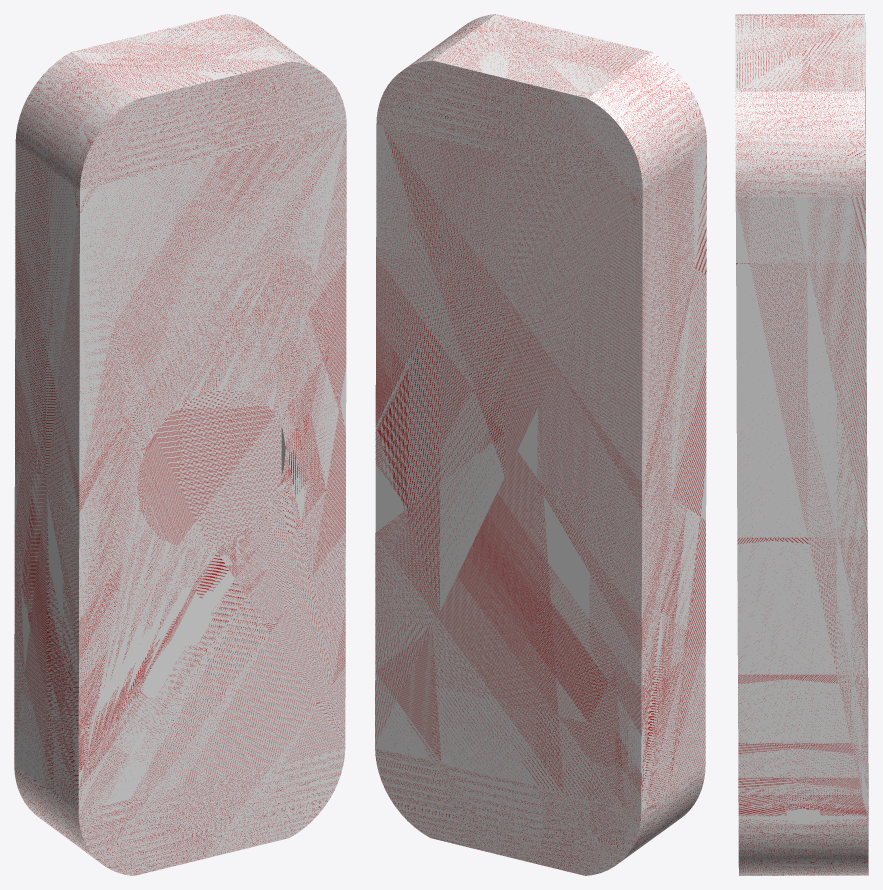
File: 9969513-lock.dae
3 renders of one model, left to right at view 1: azimuth 30°, elevation 25°; view 2: azimuth 150°, elevation 25°; view 3: azimuth 270°, elevation 25°, orthographic.
Visible parts, largest first — view 1: Kljuka.006; view 2: Kljuka.006; view 3: Kljuka.006.
Part boxes in pixels (left/top/right/bottom): Kljuka.006: left=14, top=14, right=346, bottom=875; Kljuka.006: left=375, top=14, right=706, bottom=875; Kljuka.006: left=735, top=14, right=868, bottom=875.
Size of the model in its own units: 0.0359 by 0.0154 by 0.1001.
